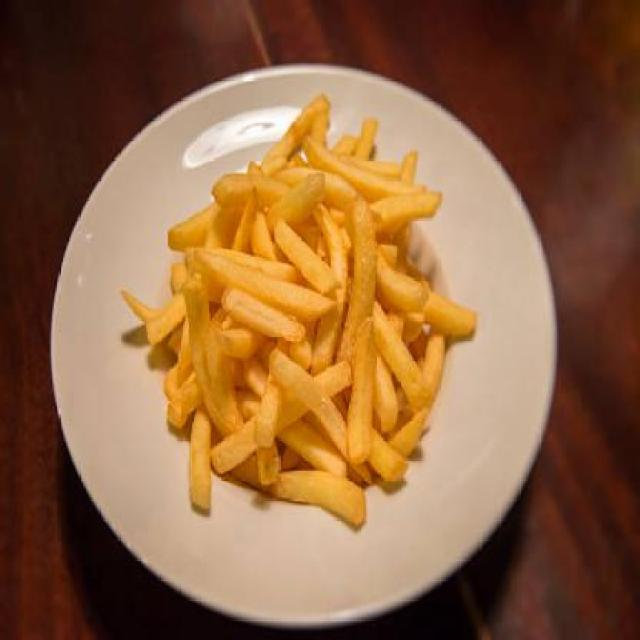fries: (115, 96, 477, 536)
